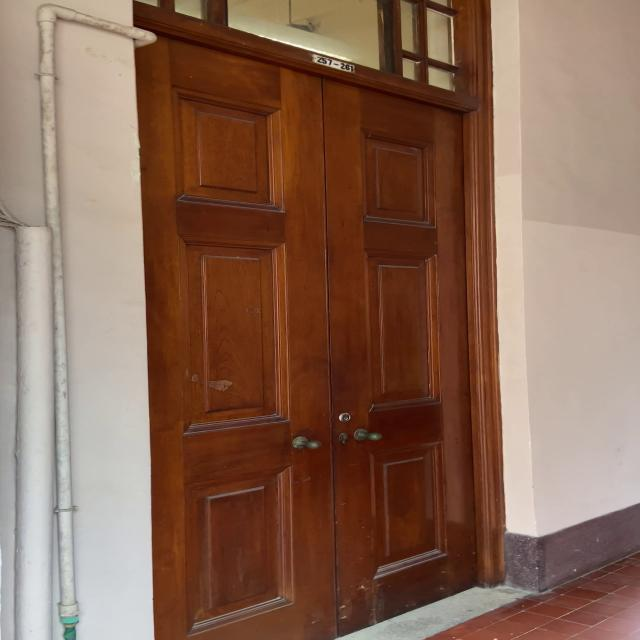room257: (307, 52, 363, 80)
room257door: (133, 1, 498, 640)
